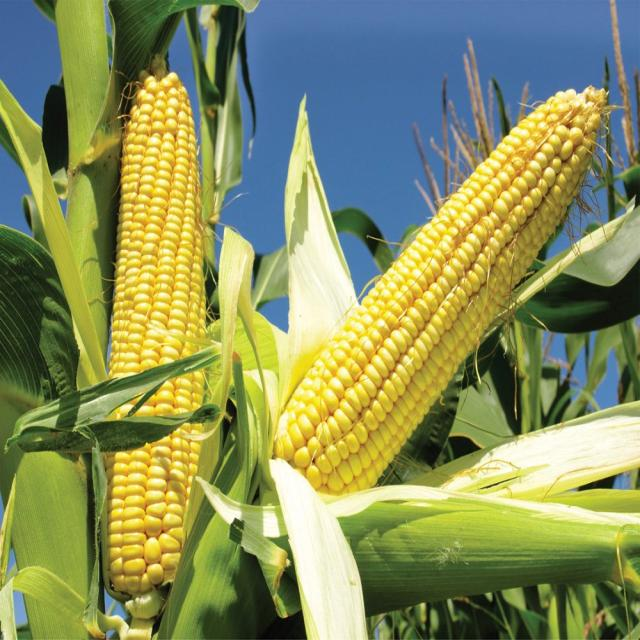Corn: (237, 70, 613, 532), (41, 55, 209, 612)
